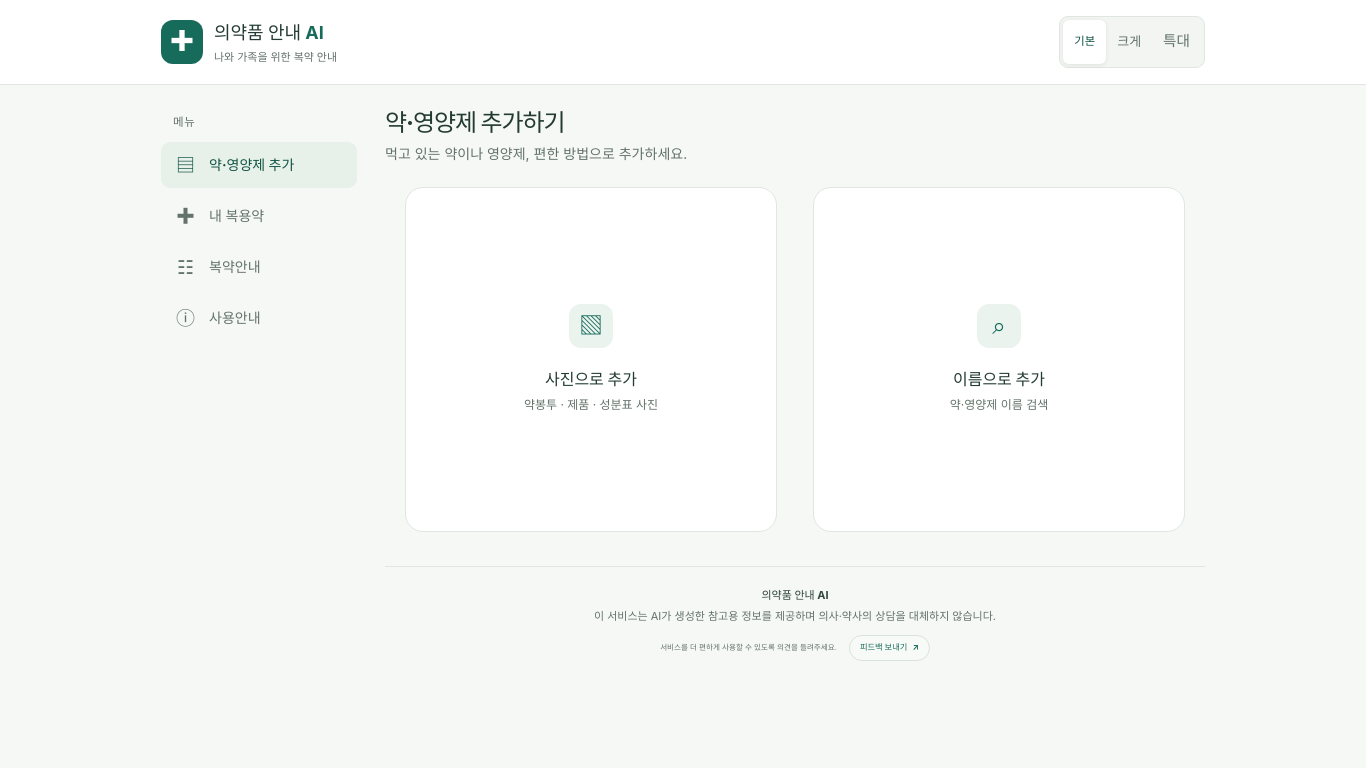
검색 결과가 없으면 성분표 사진 입력으로 전환한다
Click the button "⌕ 이름으로 추가 약·영양제 이름 검색".
click(999, 326)  # box [813,187,1185,532]
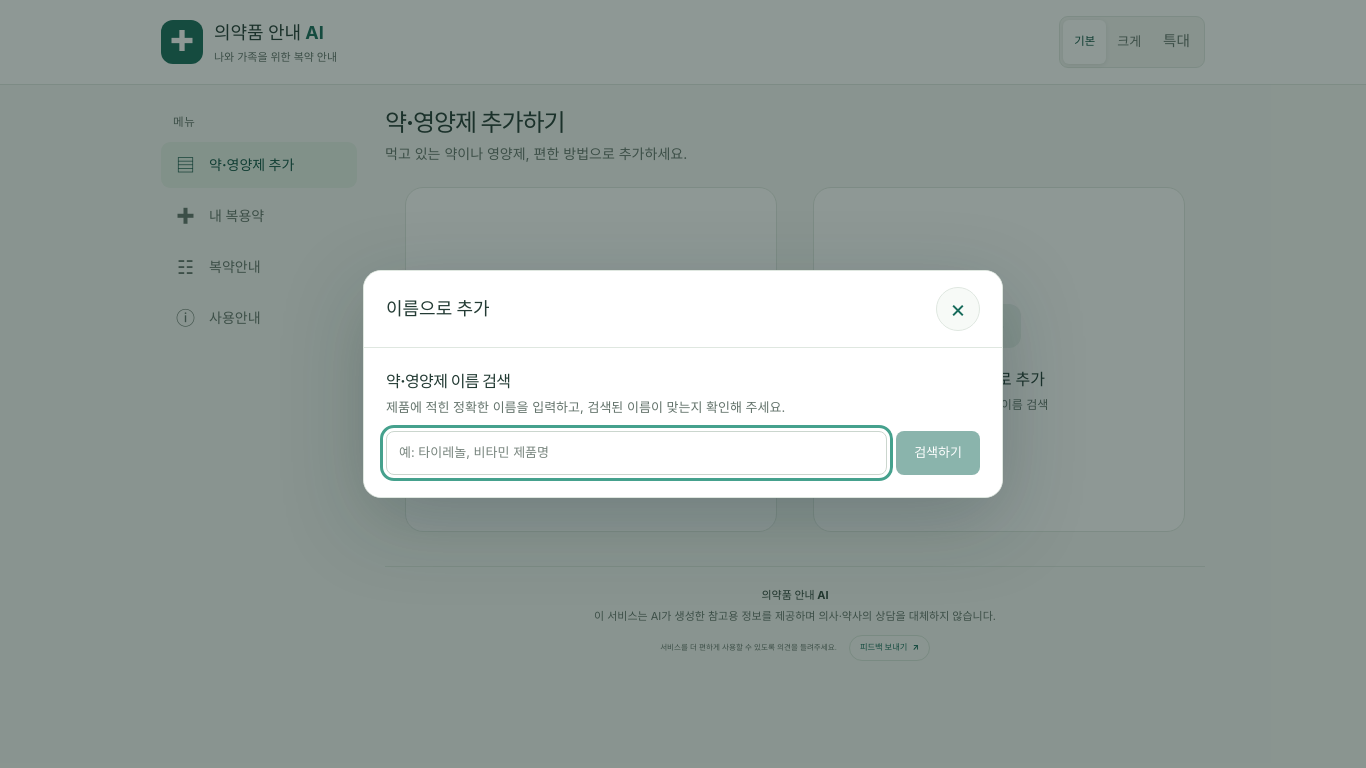
Type "확인불가제품" into the search field named "약·영양제 이름".
click(637, 453); type("확인불가제품")  # box [386,431,887,475]
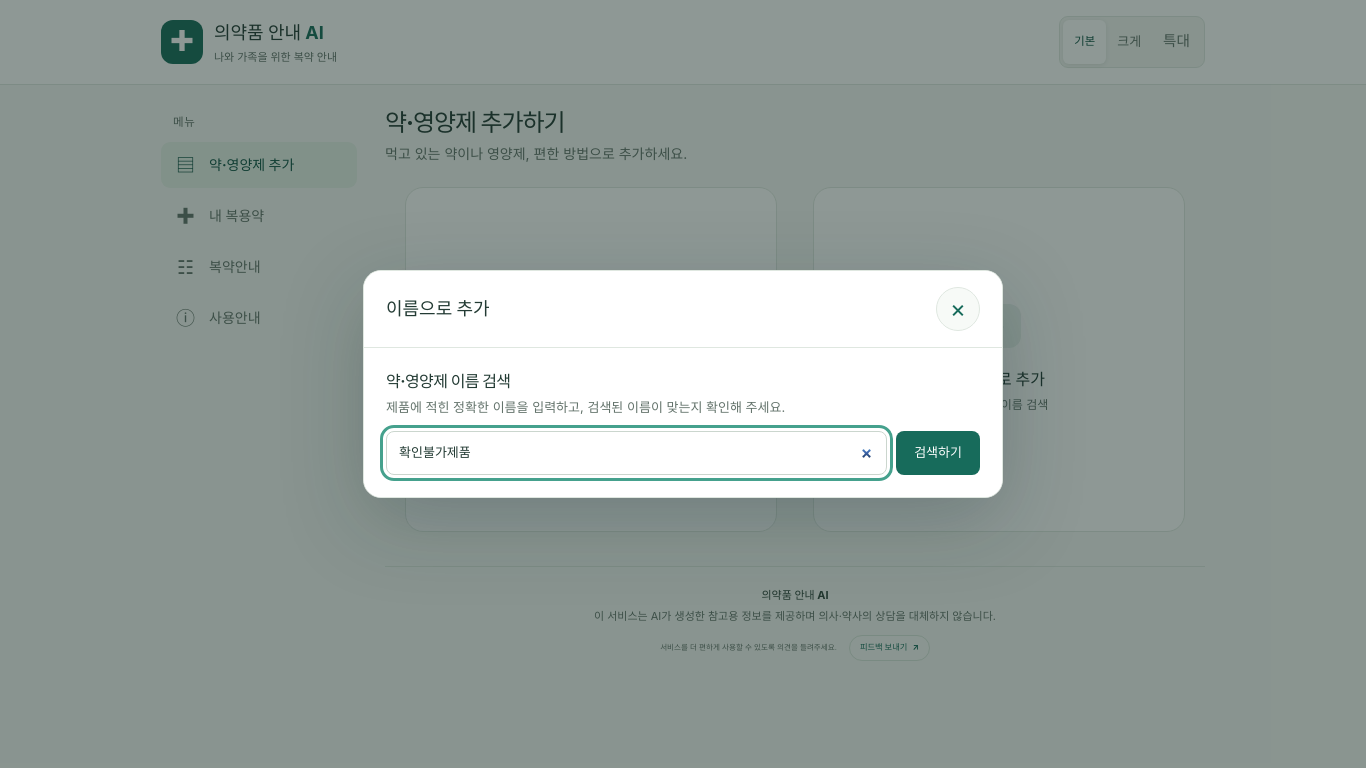
Click the button "검색하기".
click(938, 453)  # box [896,431,980,475]
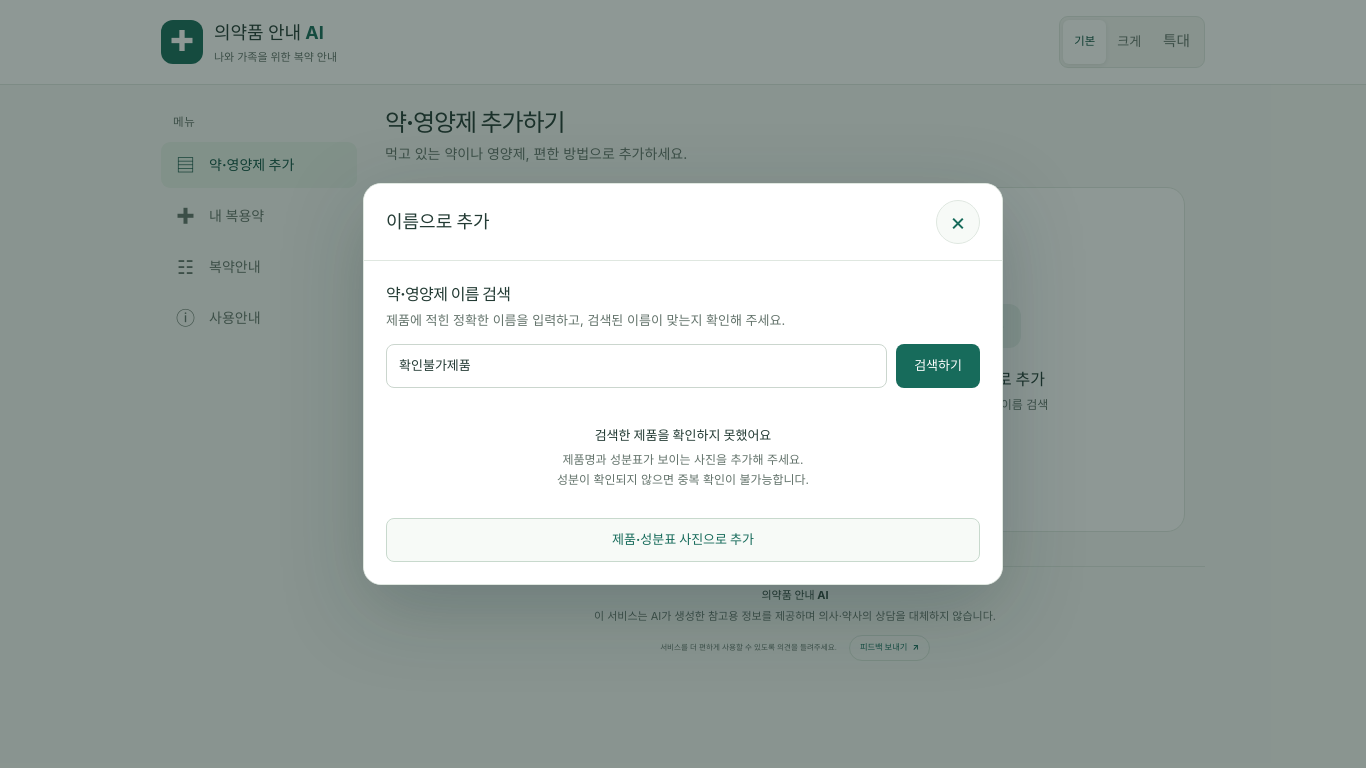
Click the button "제품·성분표 사진으로 추가".
click(683, 540)  # box [386,518,980,562]
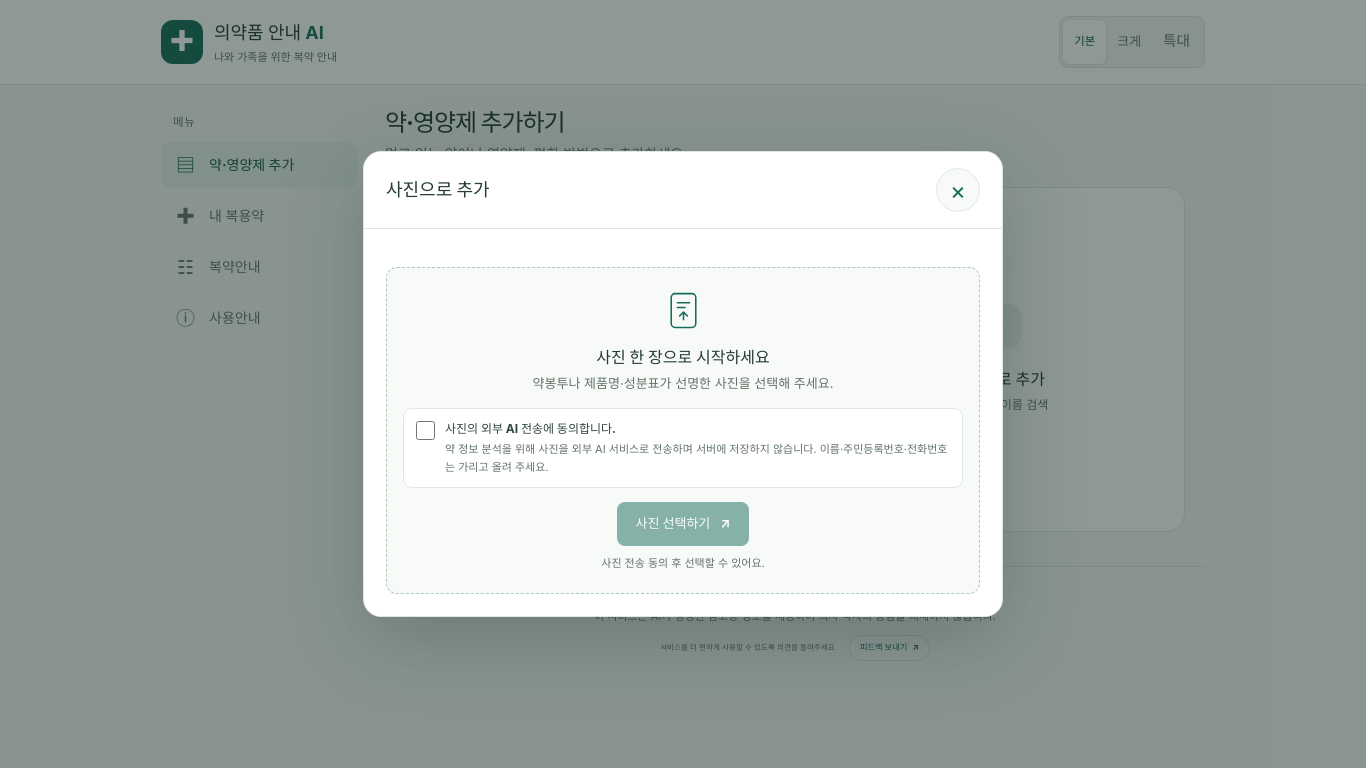
Now the dialog "사진으로 추가" is shown, box [363,151,1003,617]
Now the checkbox is not checked, box [416,420,435,440]
